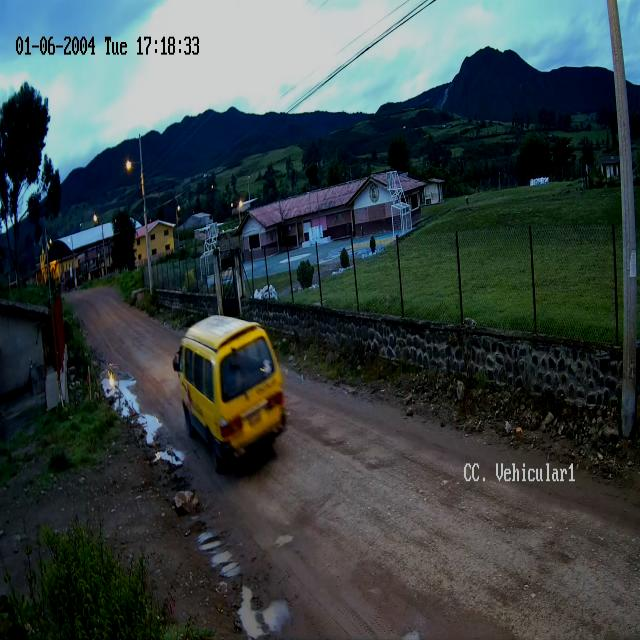BUS: (172, 315, 288, 472)
